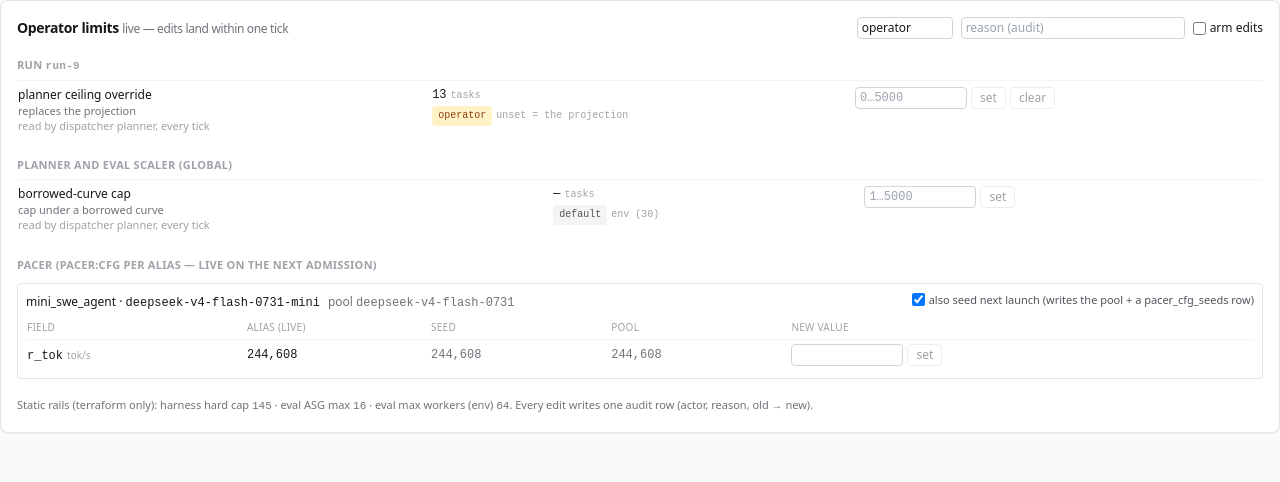
LimitsPanel › a run edit is arm-gated and carries actor + reason
Check: the text "planner ceiling override" is shown, box x1=18 y1=86 x2=152 y2=103
In the field named "ceiling_override value": coordinates (911, 98) x1=855 y1=87 x2=967 y2=109, type "20"
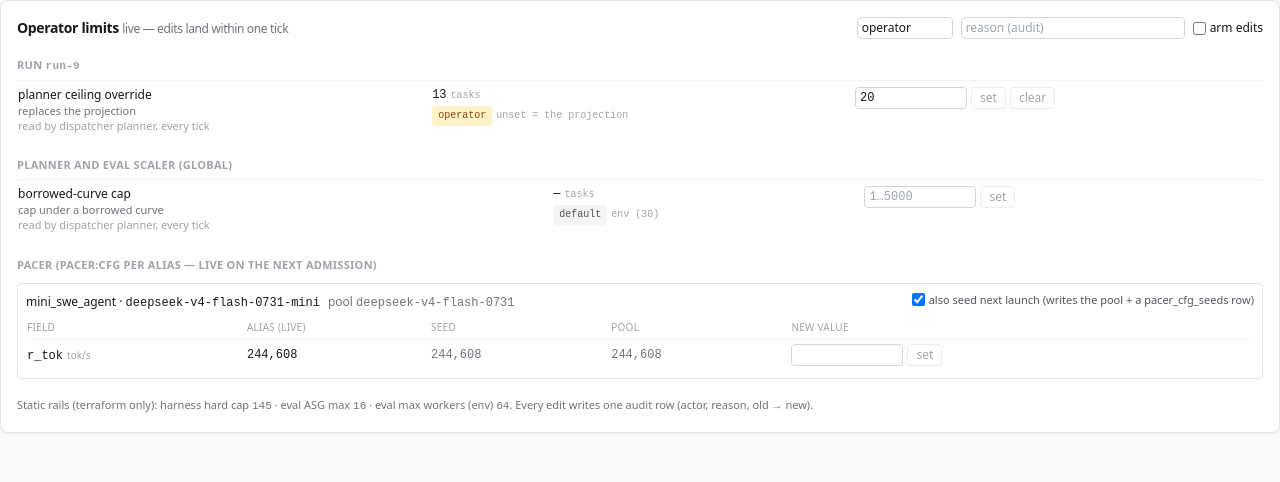
Check: the button "set" in the row of "planner ceiling override" is disabled, box x1=971 y1=87 x2=1006 y2=109
Click the checkbox named "arm limit edits": coordinates (1199, 28) x1=1193 y1=22 x2=1206 y2=34
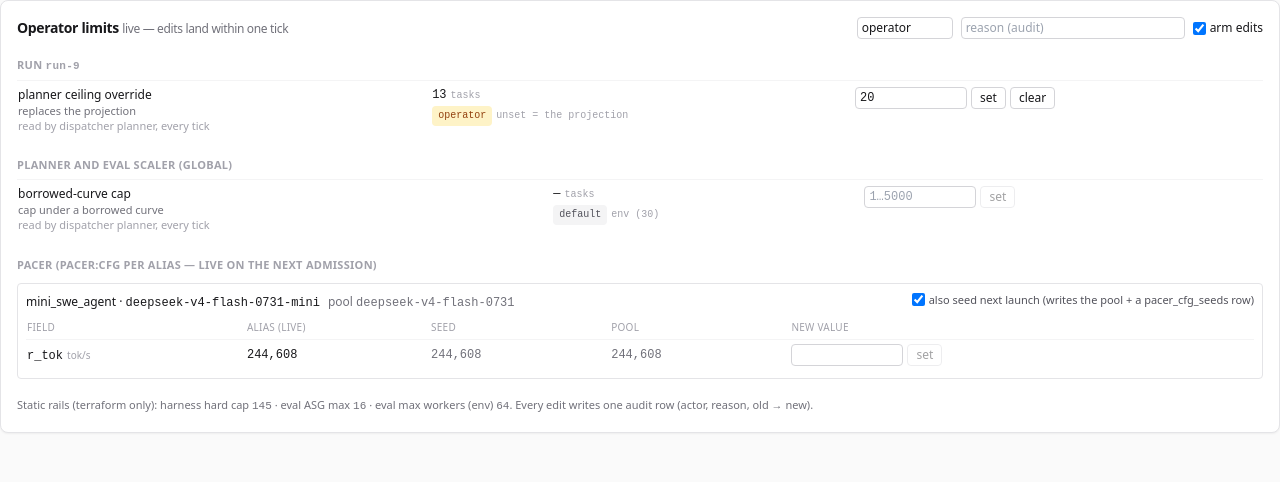
In the field named "limits reason": coordinates (1073, 28) x1=961 y1=17 x2=1185 y2=39, type "13 queued"
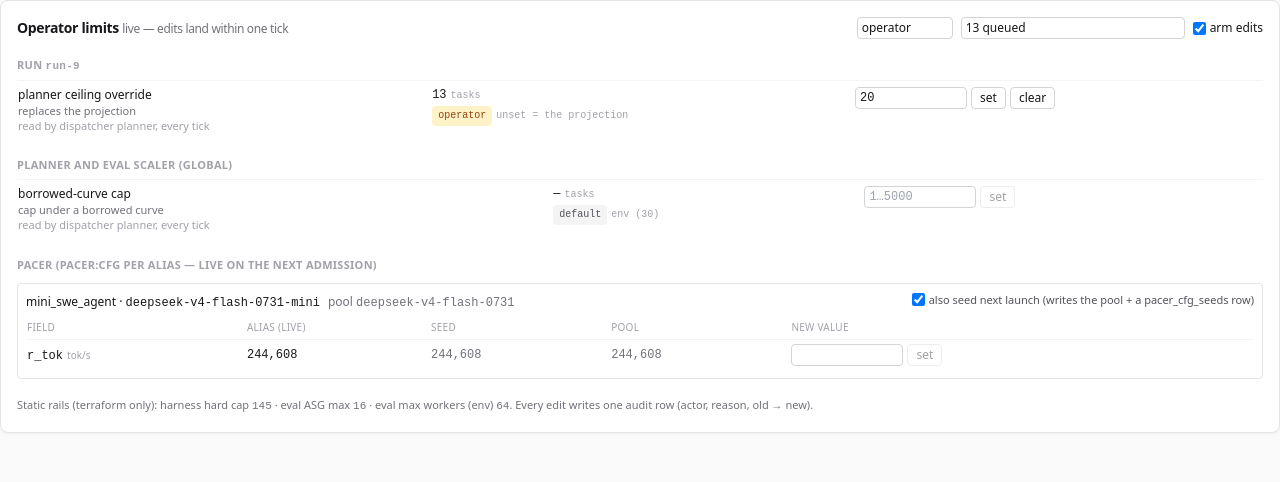
Click the button "set" in the row of "planner ceiling override": coordinates (988, 98) x1=971 y1=87 x2=1006 y2=109
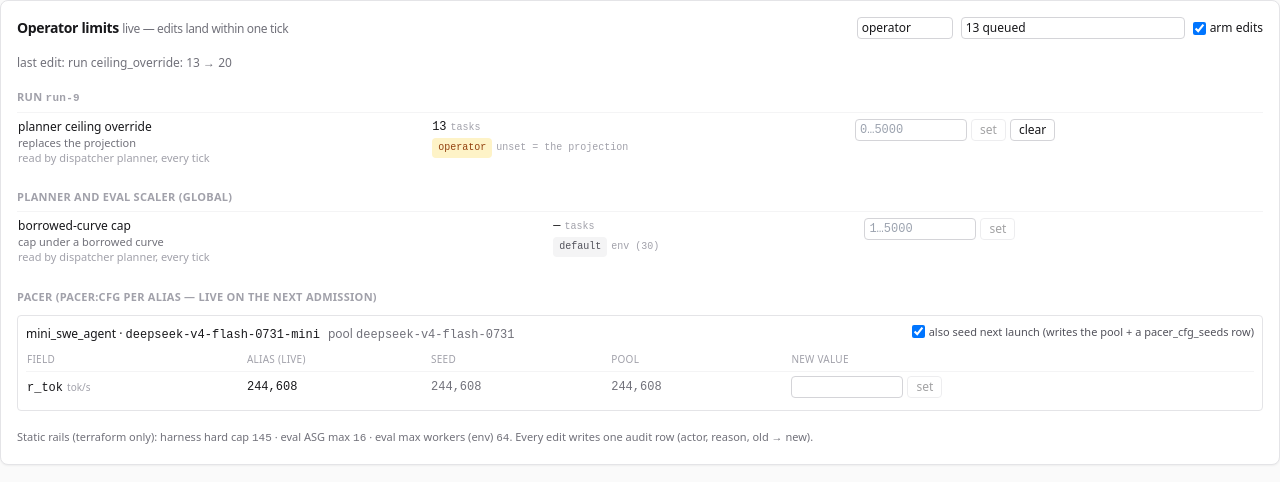
Check: the text "last edit: run ceiling_override: 13 → 20" is shown, box x1=17 y1=54 x2=232 y2=71
